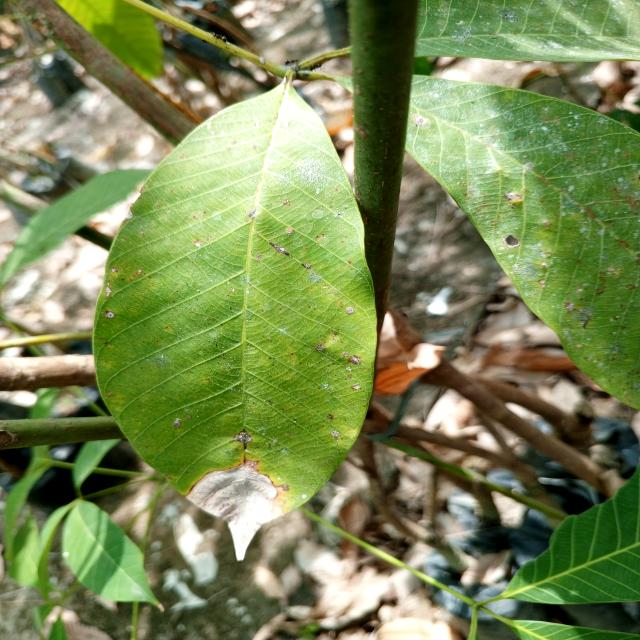Leaf-Blight: (186, 460, 285, 561)
